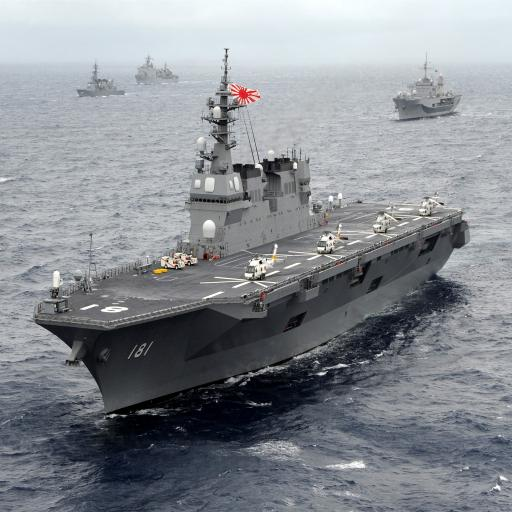Portanaves: (34, 43, 474, 428)
